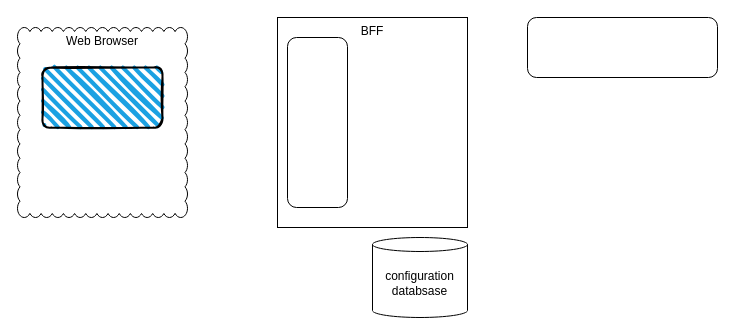
This 735x335 diagram has some shape labels left out. The centre of each missing label's shape, as x and y in pixels:
Fast API: (317,122)
Rule Based Configuration: (622,47)
